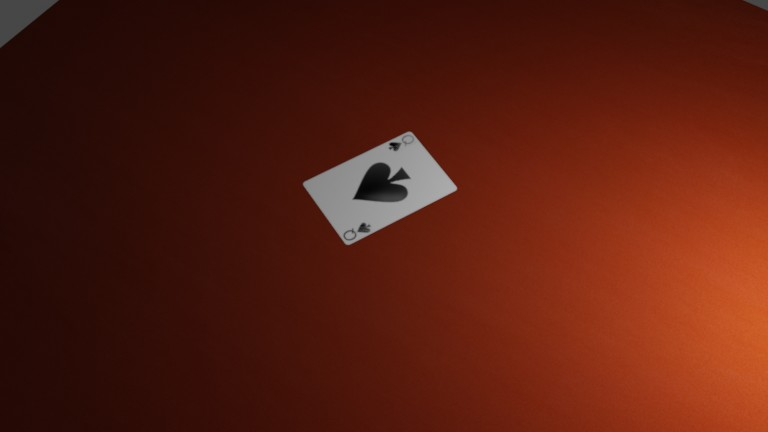queen_of_spades: (136, 88, 150, 98), (154, 53, 167, 62)
